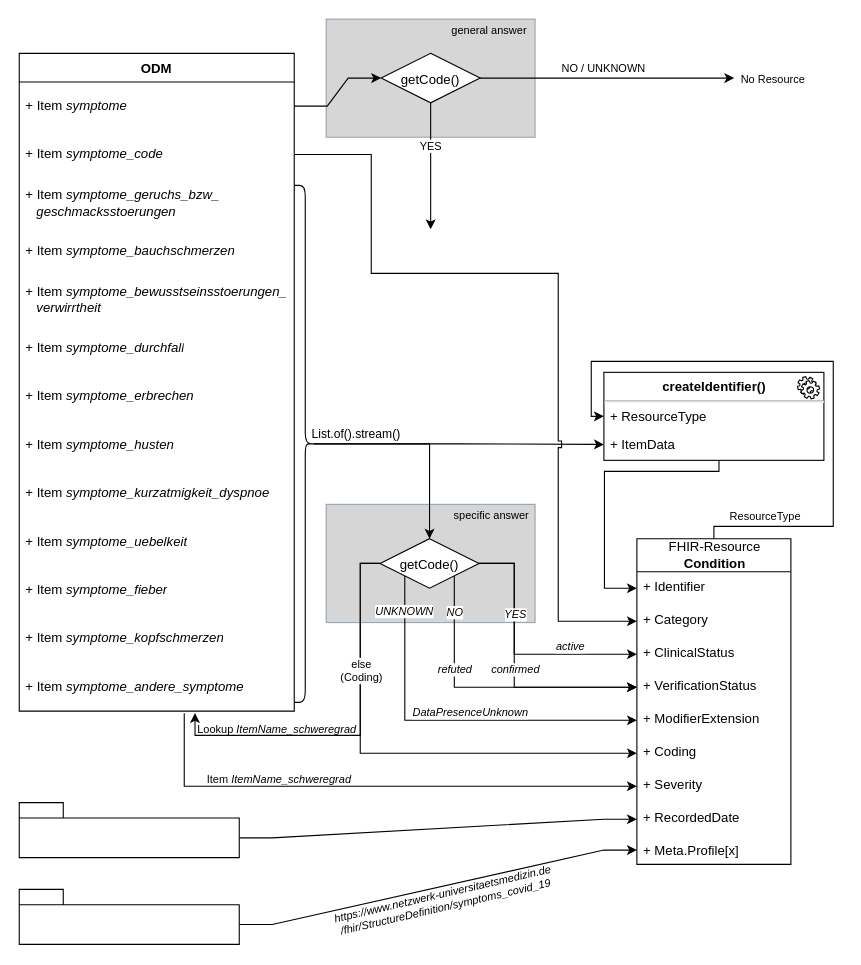
This 861x965 diagram has some shape labels left out. Each missing label, with the centre of its shape:
"Extension UnknownDateTime" belongs at point (128, 830).
"GECCO Profiles" belongs at point (128, 916).
